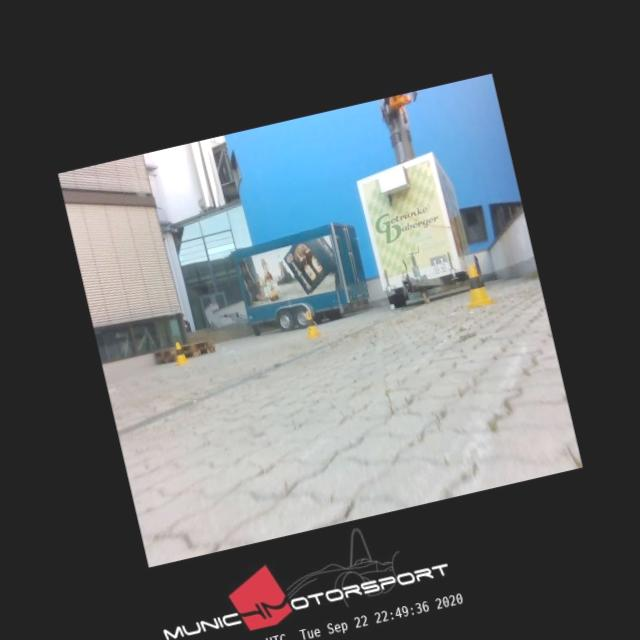yellow_cone: (457, 262, 495, 308), (300, 310, 320, 338), (170, 341, 190, 366)
